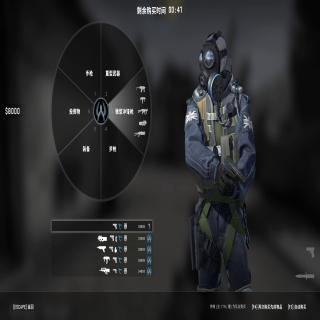CT-Body: (184, 30, 256, 293)
CT-Head: (197, 32, 228, 96)
